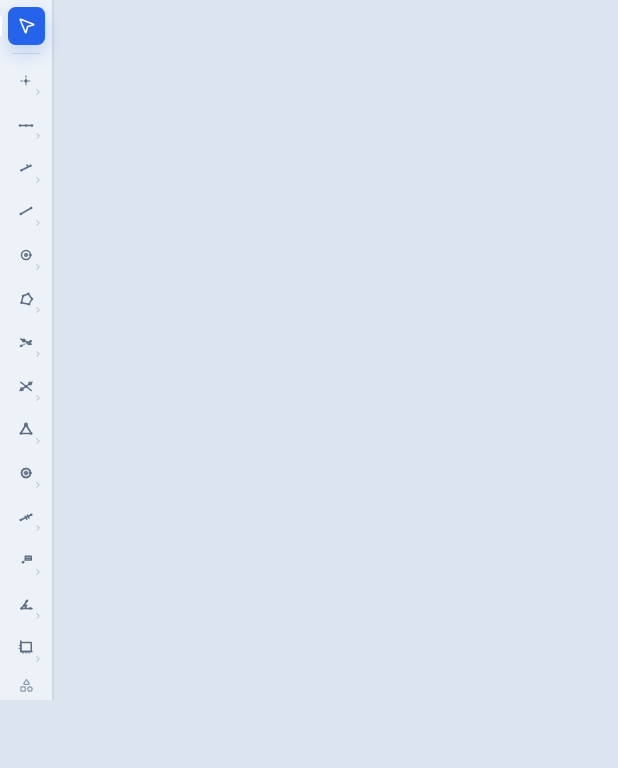
Scenario: Toolbar groups › shows section headers inside larger tool groups
Click the button named "Geometric constructions tools". click: (26,342)
box: [8,323,45,361]
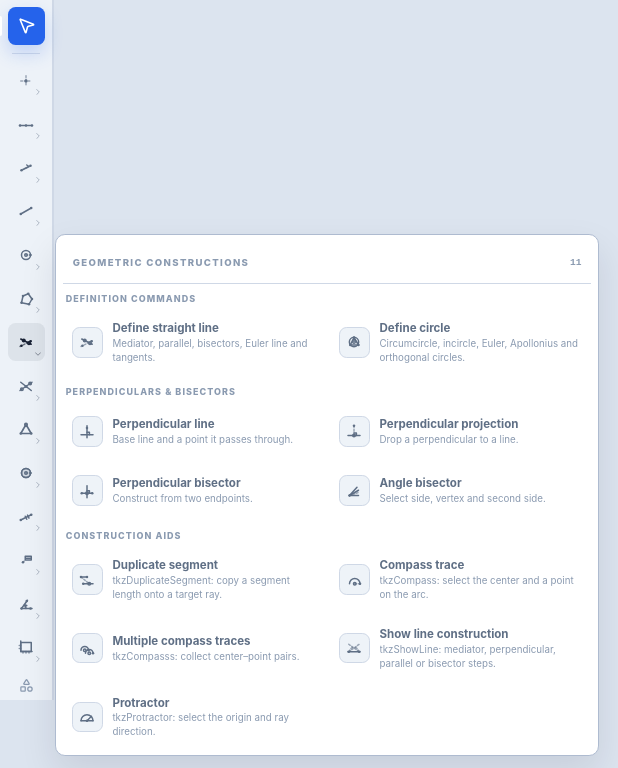
Check: the text "Definition commands" is shown, box [66,292,196,304]
Check: the text "Perpendiculars & bisectors" is shown, box [66,386,236,397]
Check: the text "Construction aids" is shown, box [66,530,182,541]
